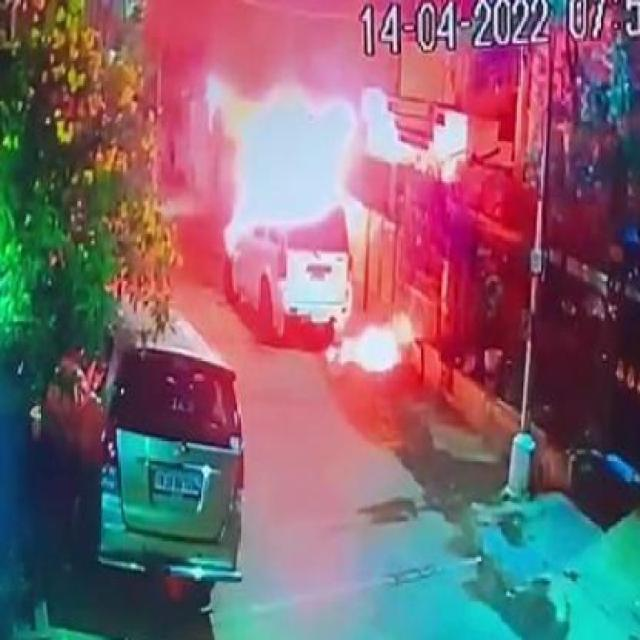Fire: (238, 92, 354, 214), (362, 88, 400, 158), (345, 328, 403, 372), (240, 201, 320, 227), (202, 72, 236, 132), (446, 113, 466, 152), (224, 210, 241, 252), (432, 122, 448, 161), (402, 140, 420, 166), (442, 154, 456, 180)
